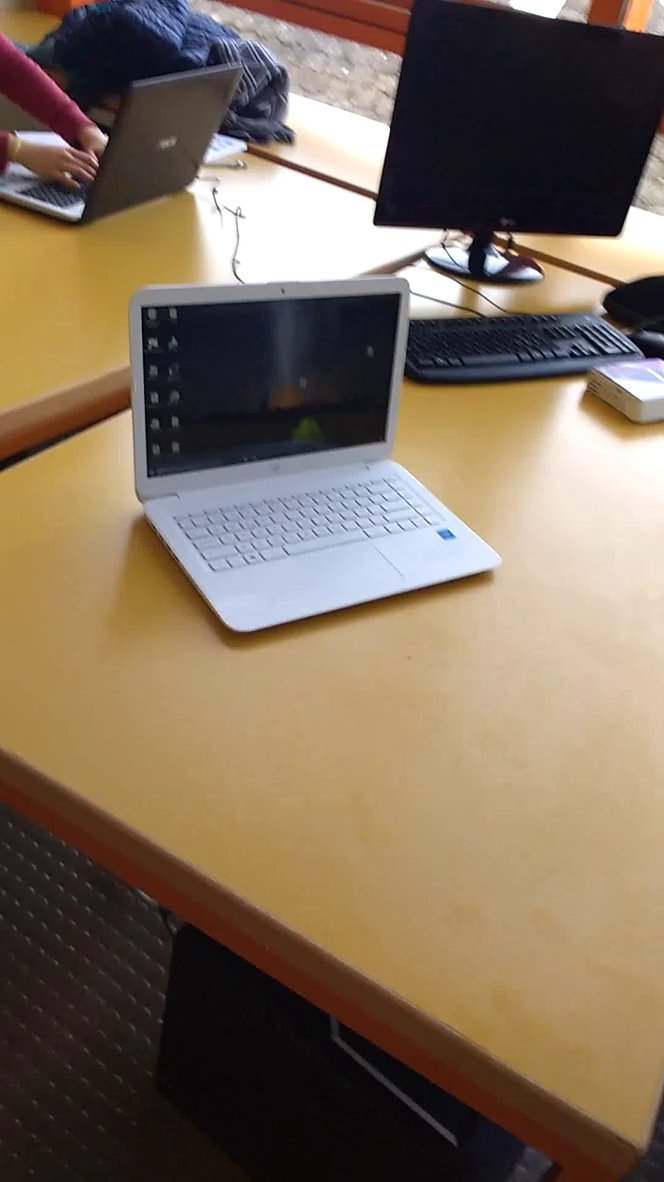laptop: (119, 268, 512, 650), (1, 51, 253, 234)
